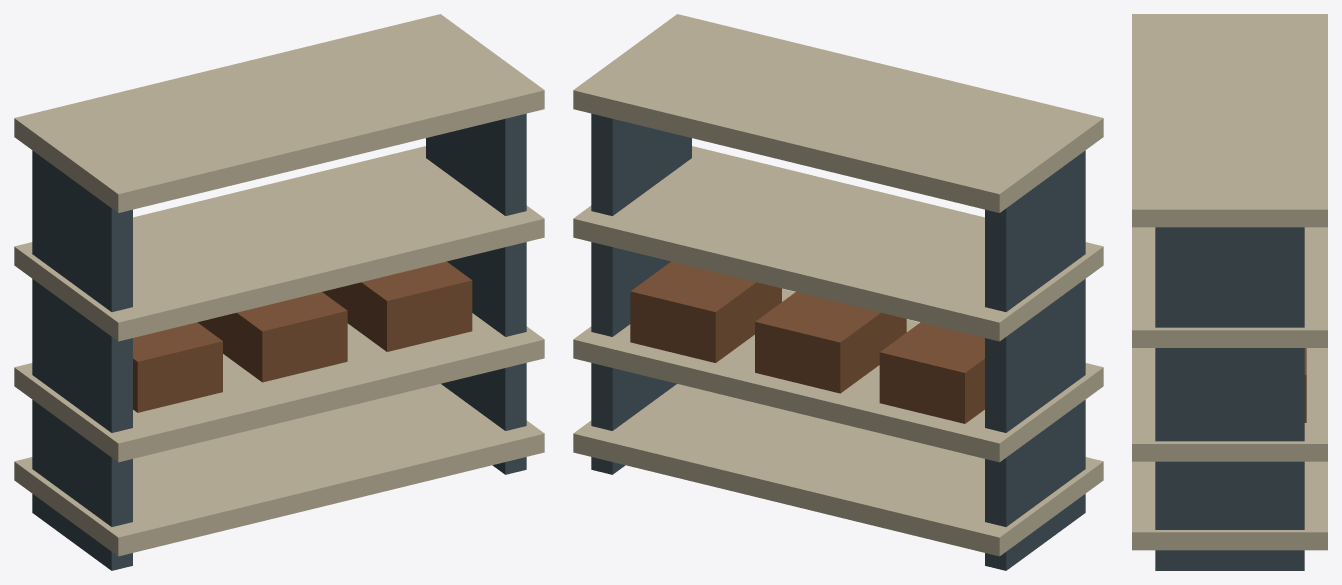
File: shoe_shelf.glb
The picture shows the model from 3 angles, left to right: view 1: azimuth 30°, elevation 25°; view 2: azimuth 150°, elevation 25°; view 3: azimuth 270°, elevation 25°; orthographic projection. The views are drawn at different scales.
Visible parts, largest first — view 1: shoe_shelf; view 2: shoe_shelf; view 3: shoe_shelf.
Part boxes in pixels (x1,y1,x2,y2): shoe_shelf: (14,14,544,570); shoe_shelf: (573,14,1103,570); shoe_shelf: (1132,14,1327,570).
Size of the model in its own units: 1.3 by 1.13 by 0.55.
